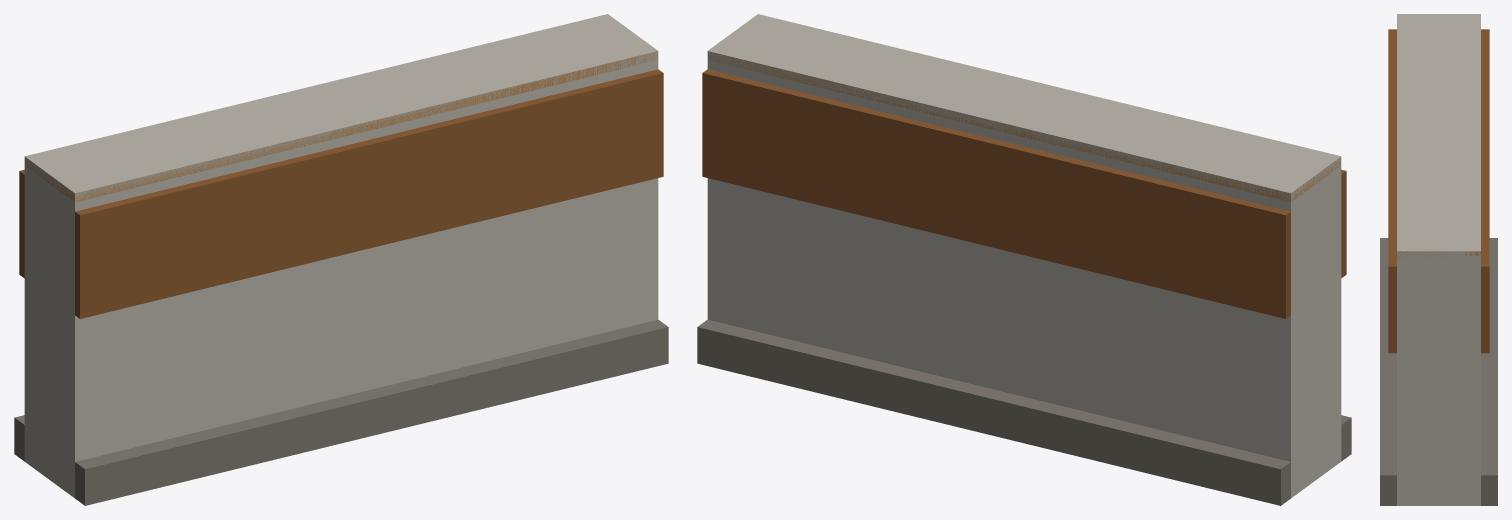
File: partition.glb
The picture shows the model from 3 angles, left to right: view 1: azimuth 30°, elevation 25°; view 2: azimuth 150°, elevation 25°; view 3: azimuth 270°, elevation 25°; orthographic projection. The views are drawn at different scales.
Visible parts, largest first — view 1: partition; view 2: partition; view 3: partition.
Part boxes in pixels (x1,y1,x2,y2): partition: (14, 14, 668, 505); partition: (697, 14, 1351, 505); partition: (1380, 14, 1497, 505).
Size of the model in its own units: 1 by 0.5 by 0.21.
Materials: 1 (1 with a texture image).
